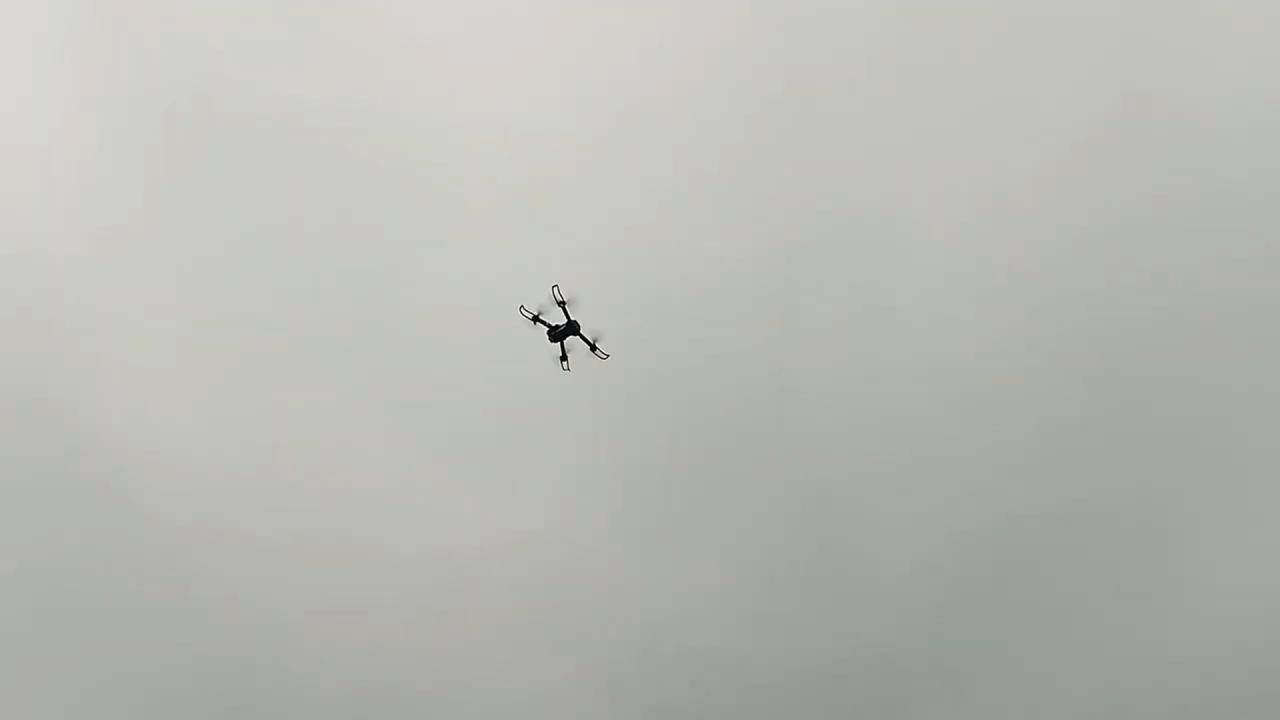Drone: (503, 273, 624, 388)
